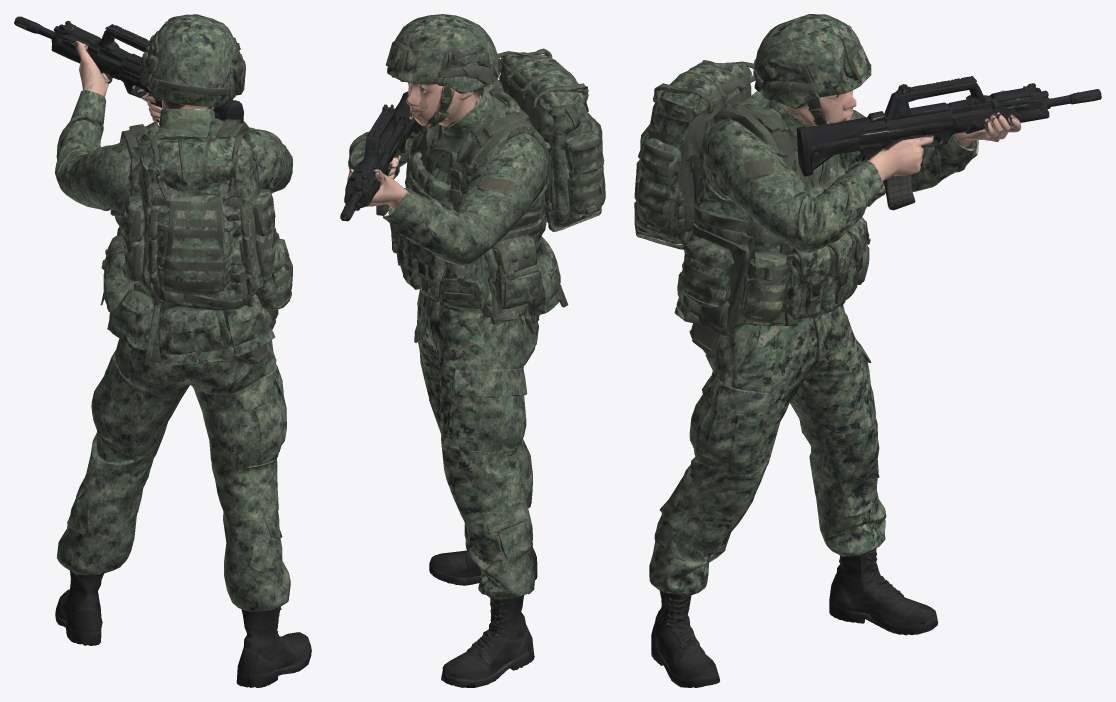
Rendered from fboaim.glb.
The picture shows the model from 3 angles, left to right: view 1: azimuth 30°, elevation 25°; view 2: azimuth 150°, elevation 25°; view 3: azimuth 270°, elevation 25°; orthographic projection. The views are drawn at different scales.
Visible parts, largest first — view 1: output; view 2: output; view 3: output.
Part boxes in pixels (x1,y1,x2,y2): output: (14, 14, 311, 687); output: (340, 14, 605, 687); output: (634, 14, 1101, 687).
Size of the model in its own units: 0.6712 by 1.9 by 1.25.
1 material, 1 textured.
